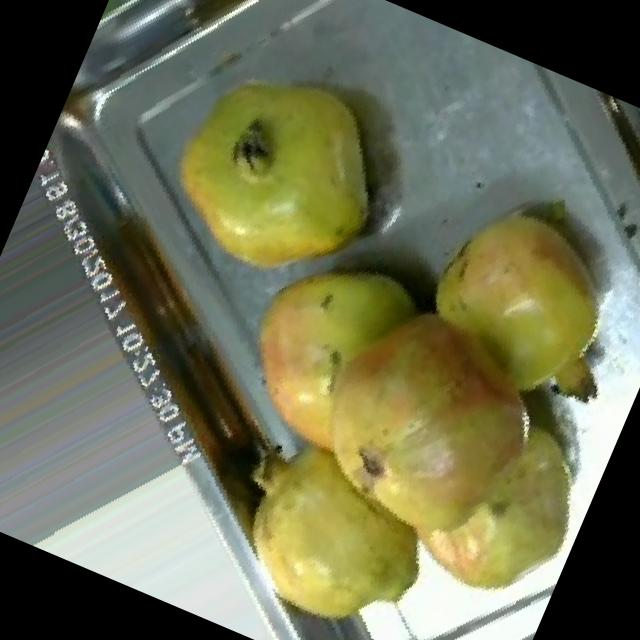fruit: (115, 9, 441, 333), (183, 204, 495, 520), (379, 146, 640, 448), (181, 402, 483, 640)
